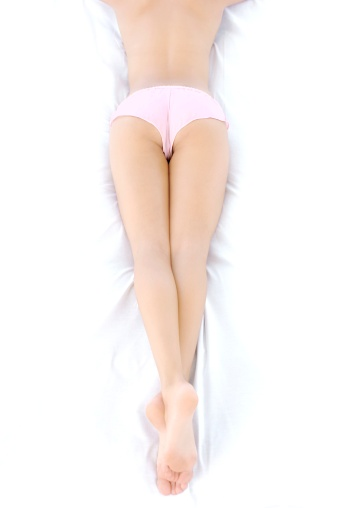deitado: (48, 0, 274, 508)
